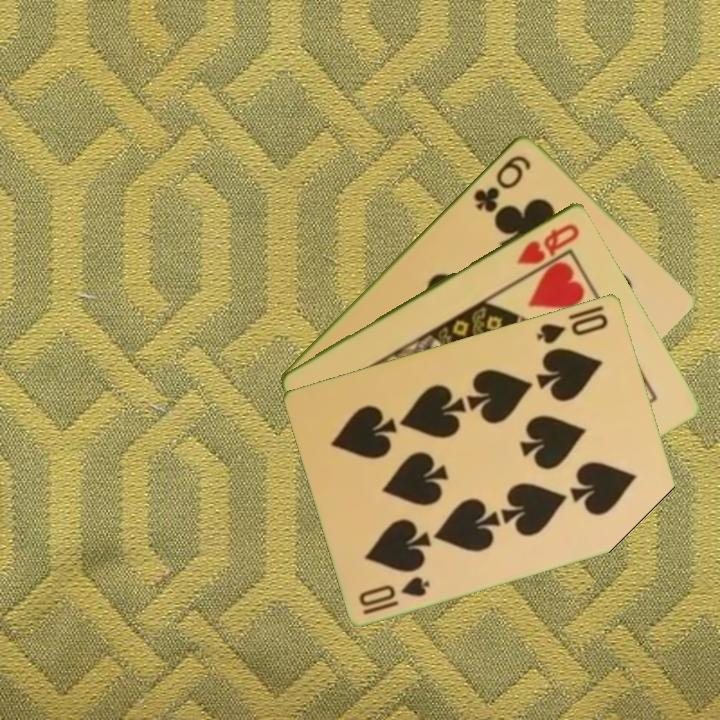10s: (355, 572, 433, 617), (533, 309, 611, 347)
6c: (469, 151, 534, 215)
Qh: (513, 219, 583, 267)
